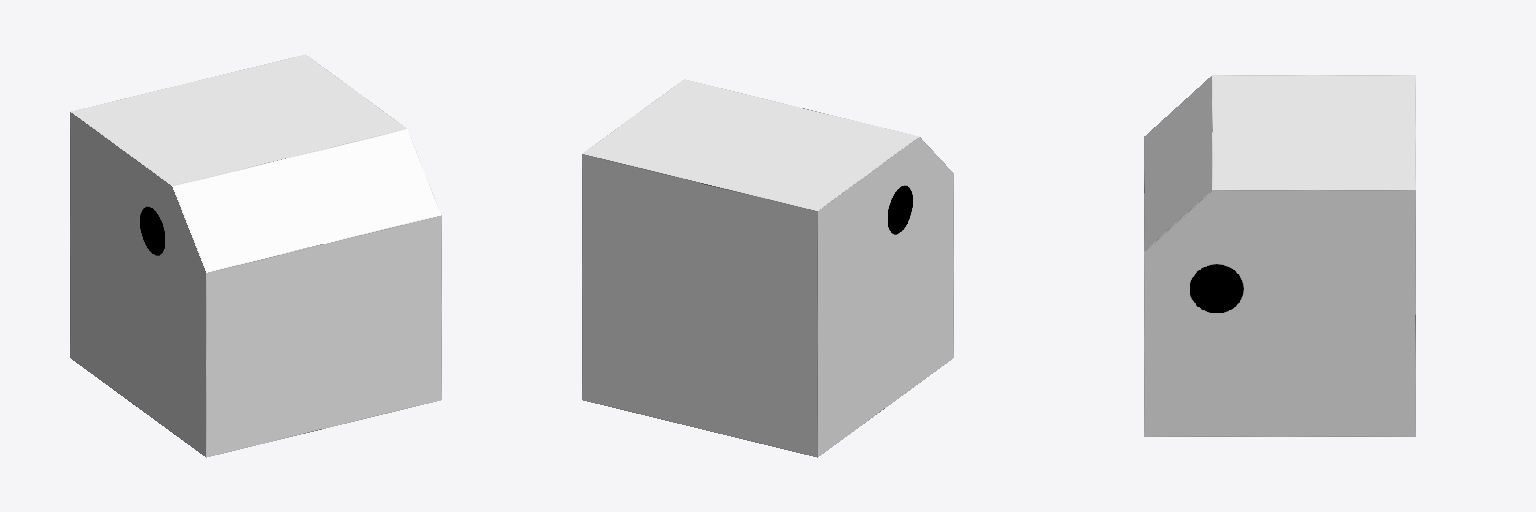
The picture shows the model from 3 angles: view 1: azimuth 30°, elevation 25°; view 2: azimuth 150°, elevation 25°; view 3: azimuth 270°, elevation 25°; orthographic projection.
Parts seen in each view (by area): view 1: Cube; view 2: Cube; view 3: Cube.
Boxes of the visible parts, box(x1,y1,x2,y2) form: Cube: box(70, 54, 441, 457); Cube: box(582, 79, 953, 457); Cube: box(1144, 75, 1415, 436).
Size of the model in its own units: 2 by 2 by 2.
Materials: 1 (1 with a texture image).